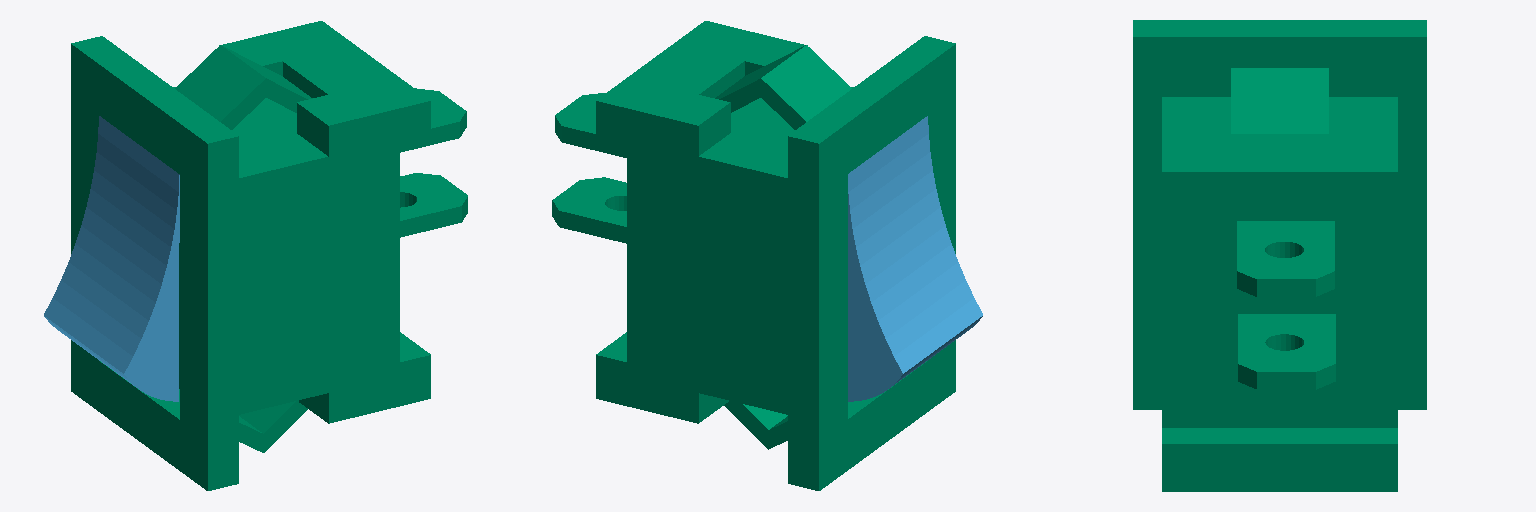
URDF robot description (partnet_2dc7259dc37ad665eca579d3e9fb187e):
<robot name="partnet_2dc7259dc37ad665eca579d3e9fb187e">
	<link name="base"><inertial><mass value="10" /><inertia ixx="1" ixy="0" ixz="0" iyy="1" iyz="0" izz="1" /></inertial></link>
	<link name="link_0">
		<visual name="switch-1">
			<origin xyz="0 -0.018399000000000026 -0.48836650000000004" />
			<geometry>
				<mesh filename="textured_objs/original-7.obj" />
			</geometry>
		</visual>
		<collision>
			<origin xyz="0 -0.018399000000000026 -0.48836650000000004" />
			<geometry>
				<mesh filename="textured_objs/original-7.obj" />
			</geometry>
		</collision>
	<inertial><mass value="10" /><inertia ixx="1" ixy="0" ixz="0" iyy="1" iyz="0" izz="1" /></inertial></link>
	<joint name="joint_0" type="revolute">
		<origin xyz="0 0.018399000000000026 0.48836650000000004" />
		<axis xyz="1 0 0" />
		<child link="link_0" />
		<parent link="link_1" />
		<limit effort="30" lower="0.0" upper="0.5410520681182421" velocity="1.0" />
	</joint>
	<link name="link_1">
		<visual name="base_body-2">
			<origin xyz="0 0 0" />
			<geometry>
				<mesh filename="textured_objs/original-4.obj" />
			</geometry>
		</visual>
		<visual name="base_body-2">
			<origin xyz="0 0 0" />
			<geometry>
				<mesh filename="textured_objs/original-3.obj" />
			</geometry>
		</visual>
		<visual name="base_body-2">
			<origin xyz="0 0 0" />
			<geometry>
				<mesh filename="textured_objs/original-2.obj" />
			</geometry>
		</visual>
		<visual name="base_body-2">
			<origin xyz="0 0 0" />
			<geometry>
				<mesh filename="textured_objs/original-5.obj" />
			</geometry>
		</visual>
		<visual name="base_body-2">
			<origin xyz="0 0 0" />
			<geometry>
				<mesh filename="textured_objs/original-6.obj" />
			</geometry>
		</visual>
		<collision>
			<origin xyz="0 0 0" />
			<geometry>
				<mesh filename="textured_objs/original-4.obj" />
			</geometry>
		</collision>
		<collision>
			<origin xyz="0 0 0" />
			<geometry>
				<mesh filename="textured_objs/original-3.obj" />
			</geometry>
		</collision>
		<collision>
			<origin xyz="0 0 0" />
			<geometry>
				<mesh filename="textured_objs/original-2.obj" />
			</geometry>
		</collision>
		<collision>
			<origin xyz="0 0 0" />
			<geometry>
				<mesh filename="textured_objs/original-5.obj" />
			</geometry>
		</collision>
		<collision>
			<origin xyz="0 0 0" />
			<geometry>
				<mesh filename="textured_objs/original-6.obj" />
			</geometry>
		</collision>
	<inertial><mass value="10" /><inertia ixx="1" ixy="0" ixz="0" iyy="1" iyz="0" izz="1" /></inertial></link>
	<joint name="joint_1" type="fixed">
		<origin rpy="1.570796326794897 0 -1.570796326794897" xyz="0 0 0" />
		<child link="link_1" />
		<parent link="base" />
	</joint>
</robot>

--- What the picture shows (computed from the rendered views, not written in the file) ---
The picture shows the robot from 3 angles, left to right: view 1: azimuth 30°, elevation 25°; view 2: azimuth 150°, elevation 25°; view 3: azimuth 270°, elevation 25°; orthographic projection.
Robot: partnet_2dc7259dc37ad665eca579d3e9fb187e — 3 links, 2 joints (1 revolute, 1 fixed); root link base; default pose: all joints at 0.
Visible links, largest first — view 1: link_1, link_0; view 2: link_1, link_0; view 3: link_1.
Boxes of the visible links, left/top/right/bottom form: link_1: left=71, top=21, right=467, bottom=490; link_0: left=44, top=116, right=179, bottom=401; link_1: left=552, top=21, right=955, bottom=490; link_0: left=848, top=116, right=982, bottom=401; link_1: left=1133, top=20, right=1426, bottom=491.
Size in the robot's own frame: 1.69 by 1.07 by 1.61 metres.
6 mesh visuals loaded from 6 distinct referenced files (6 OBJ).